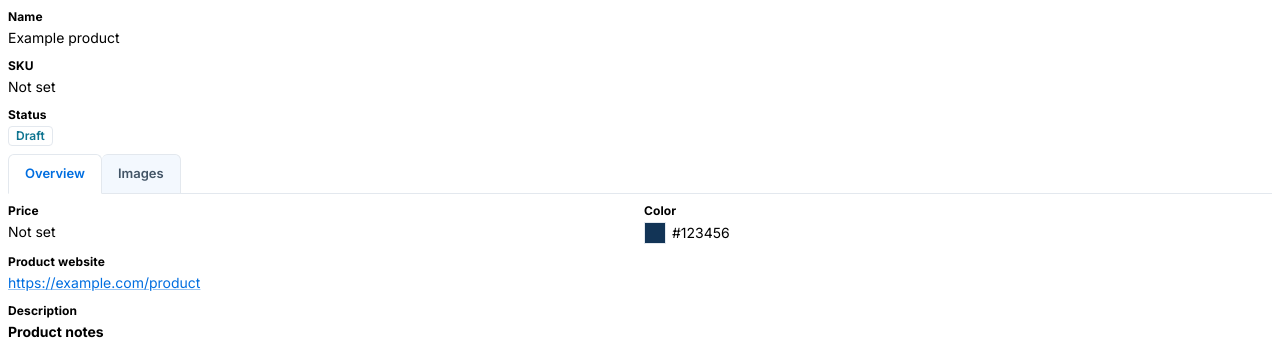
Test: blueprint templates in light mode › renders product controls and switches preview tabs
Expected: the button "#123456" is shown, [670,221,732,245]
Expected: the text "Draft" is shown, [16,128,45,142]
Click the tab "Images" at (141, 174), box [102,154,181,194]
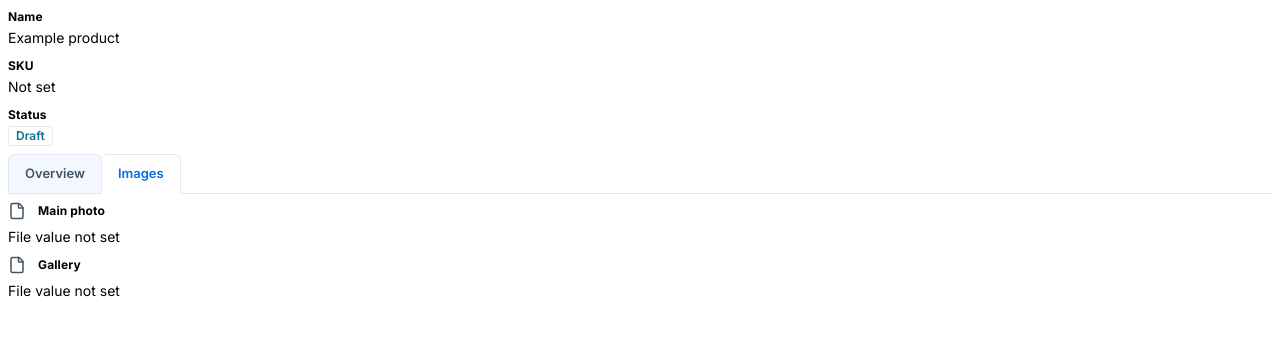
Result: the panel shows "Main photo" at [38,203,105,218]
Result: the panel shows "Gallery" at [38,257,81,272]
Result: the text "Product notes" is gone
